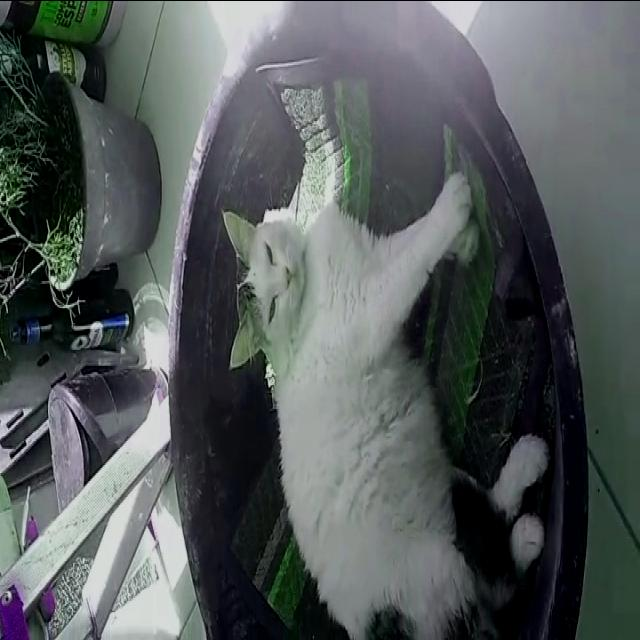Simba: (199, 154, 580, 640)
